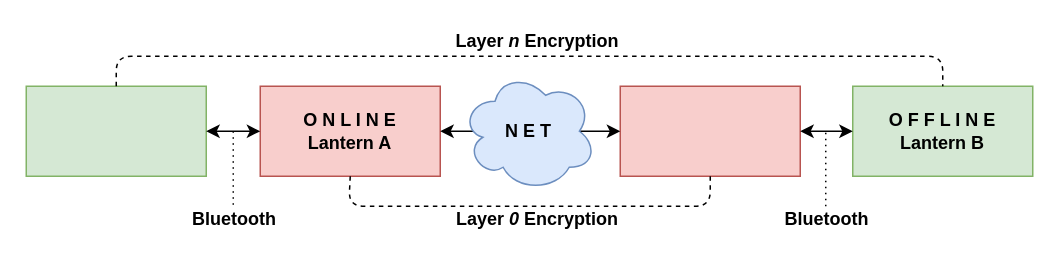
Some shapes in this 1059 by 260 pixel diagram are drawn without their labels. Each missing label, with the centre of its shape:
"O F F L I N E Lantern A" goes at (115,130).
"O N L I N E Lantern B" goes at (709,130).
